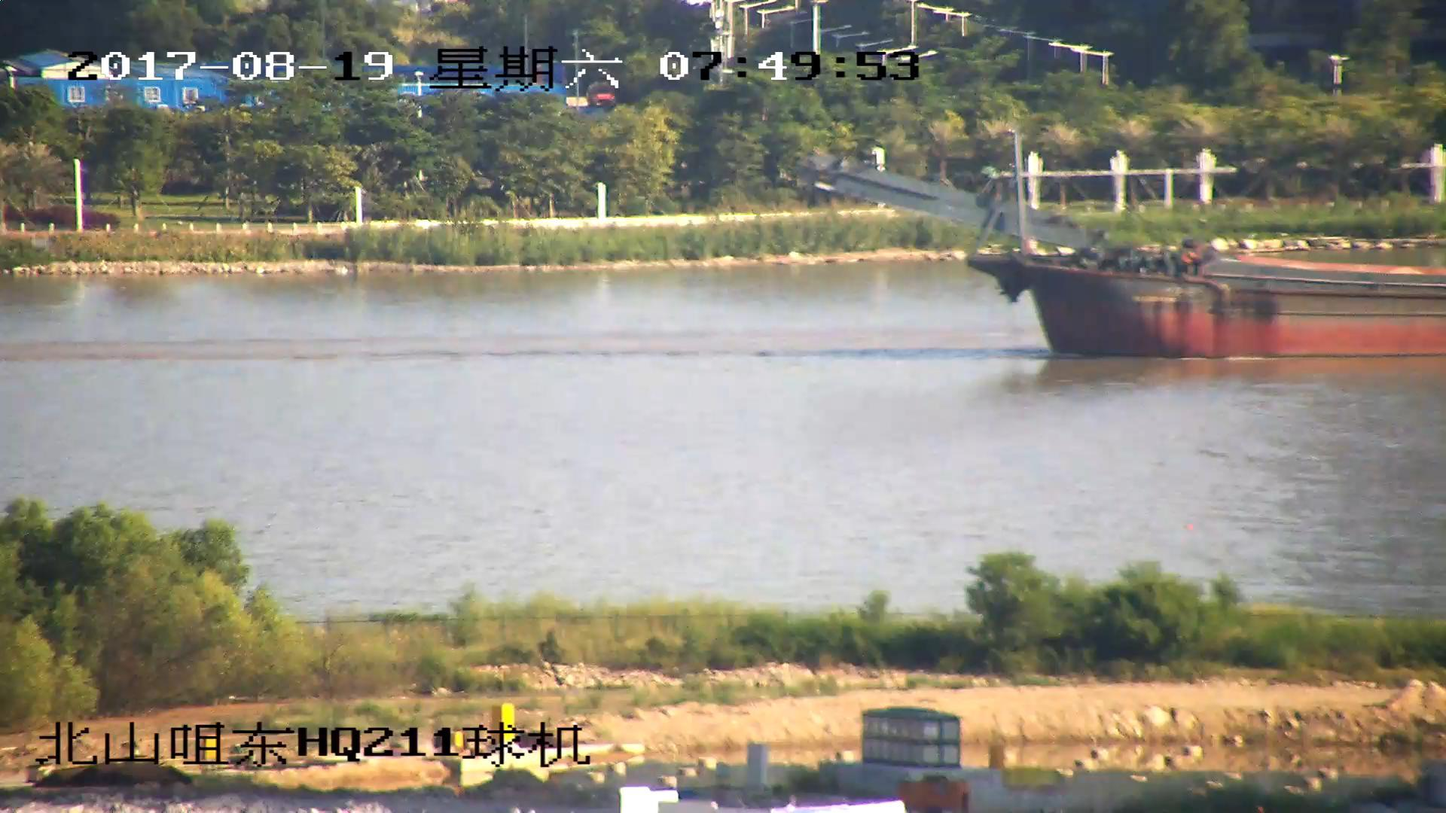bulk cargo carrier: (806, 144, 1445, 360)
